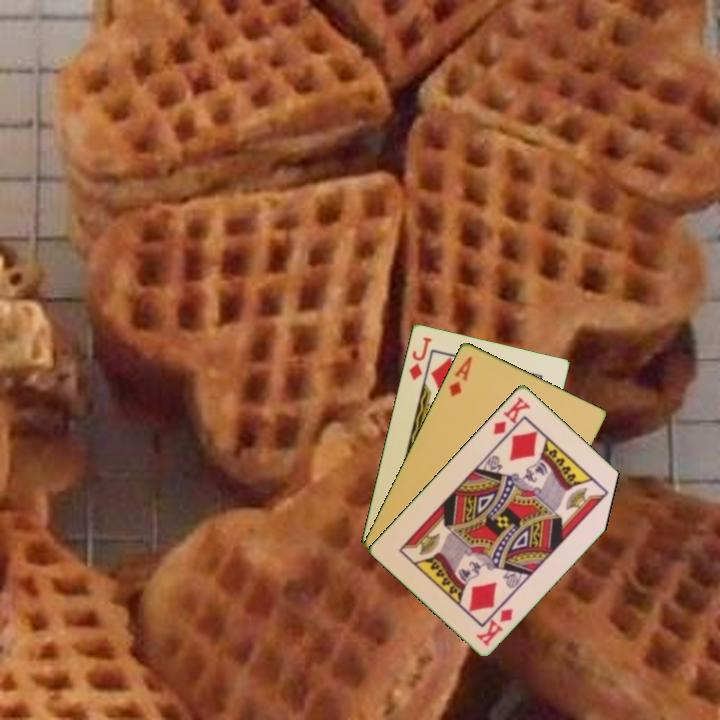Ad: (445, 352, 475, 400)
Jd: (405, 333, 434, 383)
Kd: (489, 392, 533, 438), (473, 604, 516, 648)
